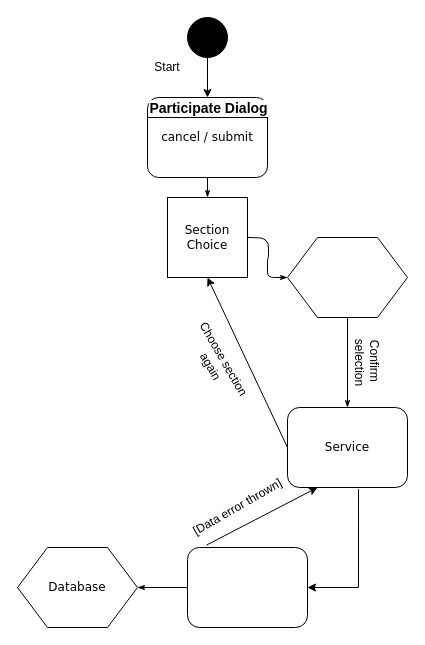
This 425x645 diagram has some shape labels left out. Here are the shapes that lost their labels. From the top down, the centre of each, then its label:
At (347,277): "Specific Section Information".
At (247,587): "Validation of Data".
